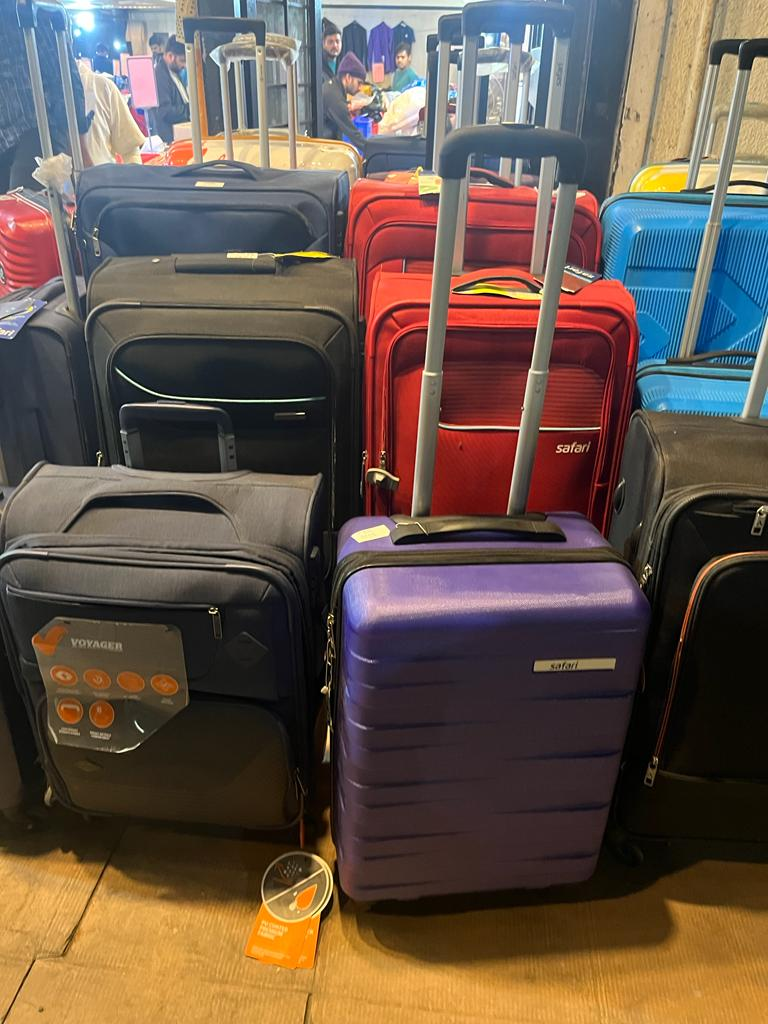Bag: (333, 114, 651, 941), (3, 450, 332, 880), (616, 399, 768, 856), (363, 269, 624, 524), (78, 249, 369, 464)
Handle: (390, 95, 596, 536), (451, 1, 581, 281), (680, 36, 768, 353), (12, 1, 98, 309), (179, 10, 273, 171), (219, 19, 314, 176)
